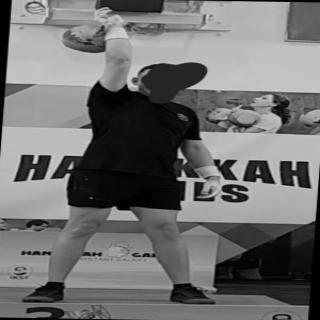kettlebell: (61, 14, 131, 56)
